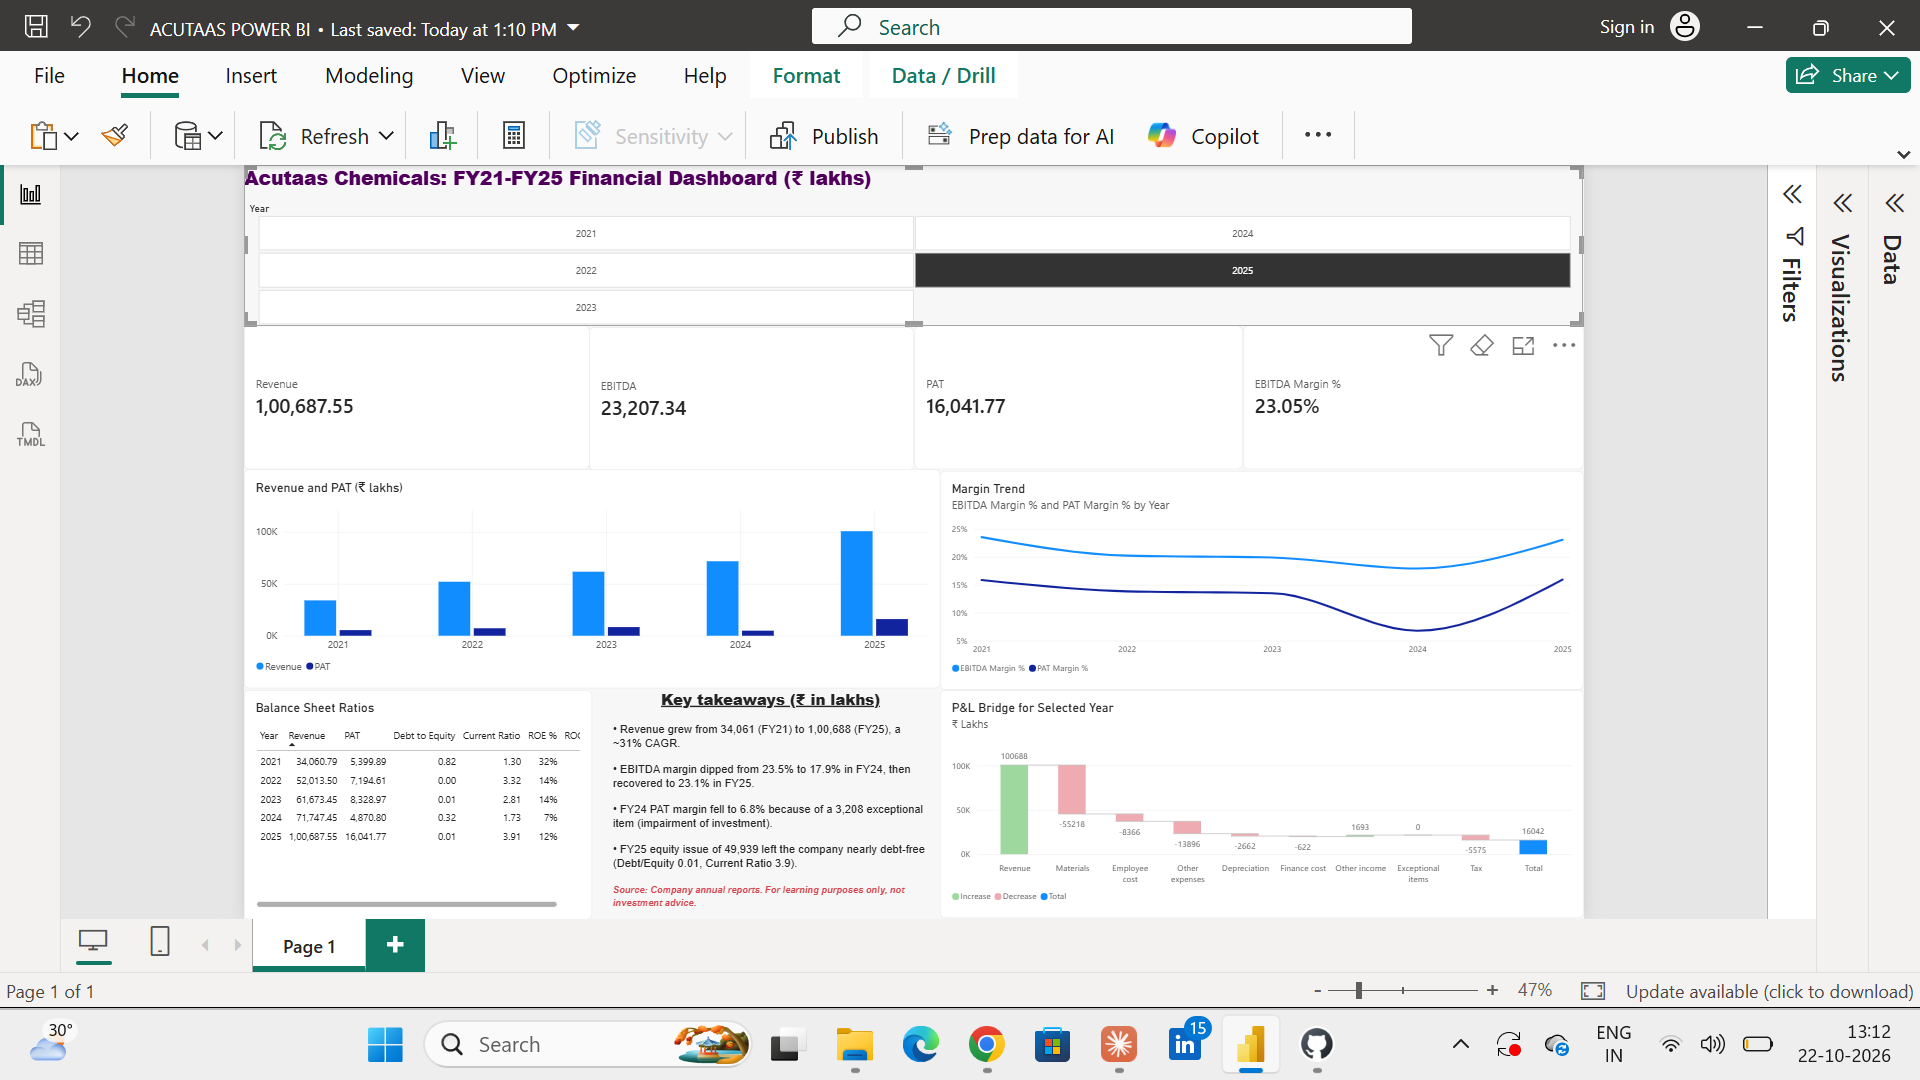

This screenshot's page, from the dashboard's own definition file:
{"tool":"powerbi","page":{"name":"Page 1","canvas":[1920,1080],"ordinal":0},"visuals":[{"type":"tableEx","title":"Balance Sheet Ratios","fields":{"Values":["DimYear.Year","Fact_financials.Revenue","select","Fact_financials.PAT","Fact_financials.Debt to Equity","Fact_financials.Current Ratio","Fact_financials.ROE %","Fact_financials.ROCE %"]},"box":[0,752,498.5,328.7],"z":0},{"type":"slicer","title":"Acutaas Chemicals: FY21-FY25 Financial Dashboard (₹ lakhs)","fields":{"Values":["DimYear.Year"]},"box":[0,0,1918.7,229.9],"z":1000},{"type":"cardVisual","fields":{"Data":["Fact_financials.Revenue"]},"box":[0,229.4,495.1,206.7],"z":2000},{"type":"cardVisual","fields":{"Data":["Fact_financials.EBITDA"]},"box":[495.1,231.7,465.6,206.7],"z":3000},{"type":"cardVisual","fields":{"Data":["Fact_financials.PAT"]},"box":[960.8,229.4,470.2,206.7],"z":4000},{"type":"cardVisual","fields":{"Data":["Fact_financials.EBITDA Margin %"]},"box":[1430.9,229.4,488.3,206.7],"z":5000},{"type":"clusteredColumnChart","title":"Revenue and PAT (₹ lakhs)","fields":{"Category":["DimYear.Year"],"Y":["Fact_financials.Revenue","Fact_financials.PAT"]},"box":[0,436.1,997.1,313.4],"z":6000},{"type":"lineChart","title":"Margin Trend","fields":{"Category":["DimYear.Year"],"Y":["Fact_financials.EBITDA Margin %","Fact_financials.PAT Margin %"]},"box":[997.1,438.4,922.2,313.4],"z":7000},{"type":"waterfallChart","title":"P&L Bridge for Selected Year","fields":{"Category":["WF.Item"],"Y":["Fact_financials.WF Value"]},"box":[996.9,752,921.7,326.6],"z":8000},{"type":"textbox","box":[528.6,749.9,451.2,328.7],"z":9000}]}

Visuals, with their boxes on the page's 1920x1080 design canvas (x1, y1, x2, y2). These are canvas units, not pixel positions in the 1920x1080 screenshot, which may show the page scaled, cropped or inside an application window:
"Balance Sheet Ratios" tableEx: select_region(0, 752, 498, 1081)
"Acutaas Chemicals: FY21-FY25 Financial Dashboard (₹ lakhs)" slicer: select_region(0, 0, 1919, 230)
cardVisual - Fact_financials.Revenue: select_region(0, 229, 495, 436)
cardVisual - Fact_financials.EBITDA: select_region(495, 232, 961, 438)
cardVisual - Fact_financials.PAT: select_region(961, 229, 1431, 436)
cardVisual - Fact_financials.EBITDA Margin %: select_region(1431, 229, 1919, 436)
"Revenue and PAT (₹ lakhs)" clusteredColumnChart: select_region(0, 436, 997, 750)
"Margin Trend" lineChart: select_region(997, 438, 1919, 752)
"P&L Bridge for Selected Year" waterfallChart: select_region(997, 752, 1919, 1079)
textbox: select_region(529, 750, 980, 1079)
